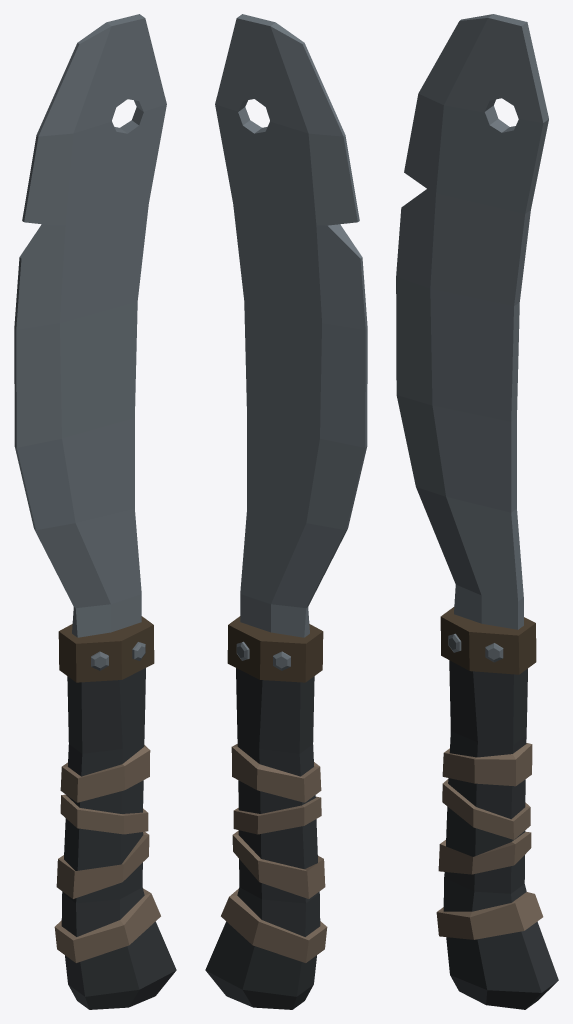
File: SmallCleaver.glb
3 views of the same model, side by side, from view 1: azimuth 30°, elevation 25°; view 2: azimuth 150°, elevation 25°; view 3: azimuth 330°, elevation 25° (orthographic).
Parts seen in each view (by area): view 1: SmallCleaver; view 2: SmallCleaver; view 3: SmallCleaver.
Boxes of the visible parts, x1,y1,x2,y2 form: SmallCleaver: (14, 14, 176, 1009); SmallCleaver: (205, 14, 367, 1009); SmallCleaver: (396, 14, 558, 1009).
Size of the model in its own units: 3842 by 23469 by 1630.
1 material, 1 textured.
